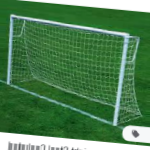goals: (6, 10, 143, 126)
